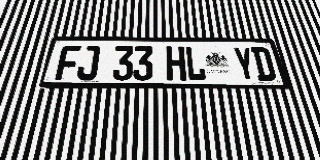3: (112, 46, 134, 81), (133, 46, 153, 81)
D: (250, 47, 277, 81)
F: (55, 45, 81, 80)
H: (166, 46, 186, 81)
J: (76, 45, 100, 81)
L: (185, 46, 207, 81)
Y: (232, 47, 258, 81)
